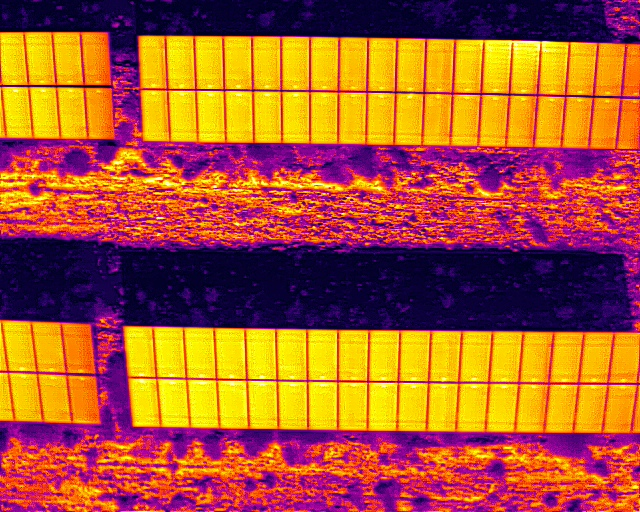photovoltaic_panels: (116, 319, 636, 442), (132, 29, 636, 154), (5, 26, 118, 143), (5, 316, 105, 427)
